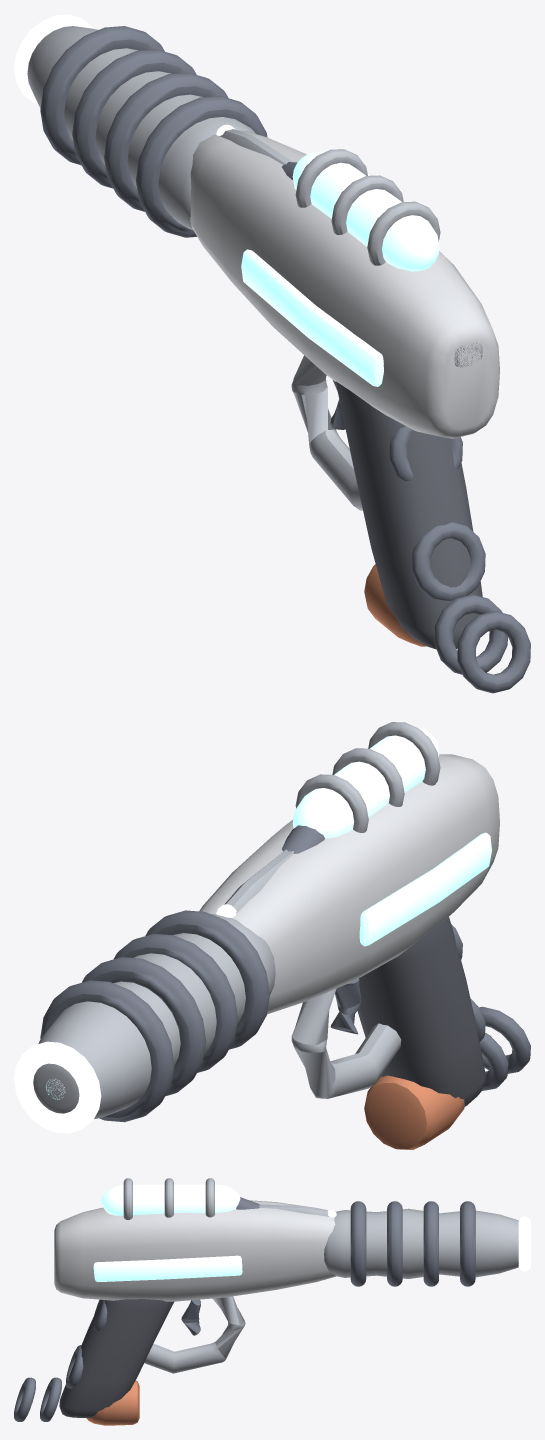
Rendered from th31_blaster.glb.
3 renders of one model, top to bottom at view 1: azimuth 30°, elevation 25°; view 2: azimuth 150°, elevation 25°; view 3: azimuth 270°, elevation 25°, orthographic. The views are drawn at different scales.
Visible parts, largest first — view 1: Huelle, Griff, Dreh, Dreh.002, Rohr.004, Torus, Torus.003, Torus.001, Torus.002, Rohr.002, Torus.011, Torus.009 (+8 smaller); view 2: Huelle, Griff, Dreh, Rohr.002, Dreh.002, Torus.003, Dreh.003, Rohr.004, Torus.002, Torus, Torus.004, Torus.001 (+8 smaller); view 3: Huelle, Dreh, Griff, Dreh.002, Rohr.005, Rohr.002, Torus, Torus.001, Torus.002, Torus.003, Dreh.003, Torus.004 (+8 smaller).
Part boxes in pixels (x1,y1,x2,y2): Huelle: (190, 130, 499, 438); Griff: (336, 381, 482, 649); Dreh: (27, 26, 255, 229); Dreh.002: (292, 151, 439, 271); Rohr.004: (241, 249, 383, 386); Torus: (136, 96, 267, 237); Torus.003: (40, 26, 164, 164); Torus.001: (104, 72, 228, 211); Torus.002: (72, 49, 196, 188); Rohr.002: (291, 355, 362, 510); Torus.011: (457, 611, 530, 693); Torus.009: (411, 522, 485, 600); Huelle: (199, 754, 499, 1014); Griff: (357, 917, 485, 1106); Dreh: (33, 914, 275, 1118); Rohr.002: (291, 988, 401, 1098); Dreh.002: (292, 727, 439, 838); Torus.003: (40, 980, 174, 1122); Dreh.003: (364, 1075, 464, 1149); Rohr.004: (359, 832, 491, 946); Torus.002: (82, 957, 206, 1096); Torus: (145, 910, 269, 1049); Torus.004: (14, 1041, 101, 1133); Torus.001: (114, 933, 237, 1072); Huelle: (54, 1200, 335, 1301); Dreh: (324, 1208, 518, 1278); Griff: (59, 1299, 173, 1418); Dreh.002: (100, 1184, 240, 1215); Rohr.005: (93, 1255, 242, 1281); Rohr.002: (144, 1296, 245, 1373); Torus: (350, 1201, 366, 1286); Torus.001: (387, 1201, 402, 1286); Torus.002: (423, 1201, 438, 1286); Torus.003: (460, 1201, 475, 1286); Dreh.003: (87, 1380, 139, 1425); Torus.004: (518, 1216, 530, 1271).
Size of the model in its own units: 0.08 by 0.2356 by 0.4538.
